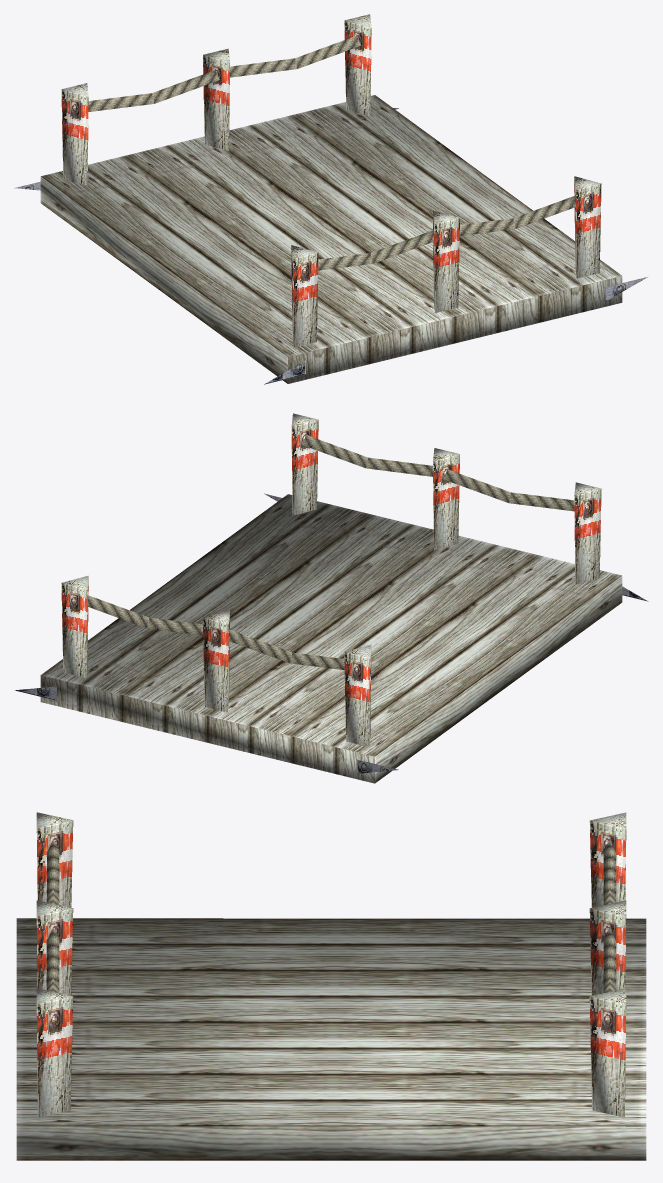
File: falling_bridge.glb
The picture shows the model from 3 angles, top to bottom: view 1: azimuth 30°, elevation 25°; view 2: azimuth 150°, elevation 25°; view 3: azimuth 270°, elevation 25°; orthographic projection. The views are drawn at different scales.
Parts seen in each view (by area): view 1: falling bridge; view 2: falling bridge; view 3: falling bridge.
Part boxes in pixels (box(x1,y1,x2,y2)): falling bridge: box(14, 14, 648, 384); falling bridge: box(15, 413, 648, 783); falling bridge: box(16, 812, 646, 1160).
Size of the model in its own units: 4.02 by 1.16 by 4.5.
4 materials, 4 textured.
